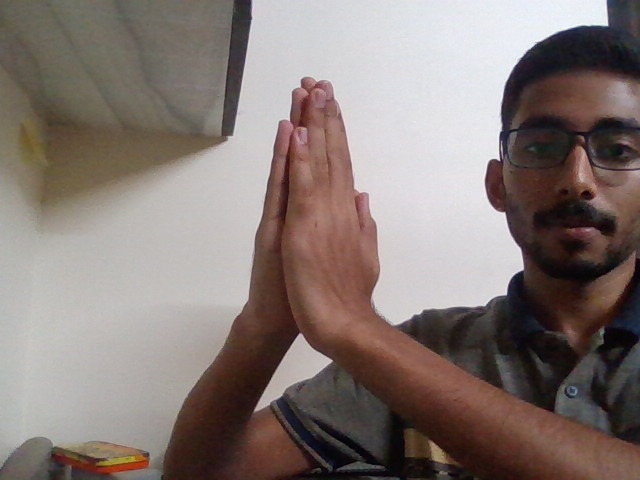Thank You: (215, 58, 407, 399)
